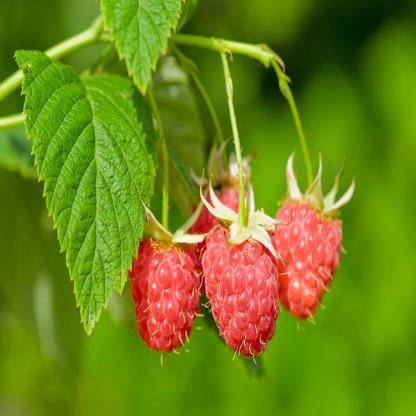Raspberry leaf: (11, 45, 154, 345), (100, 1, 185, 93)
